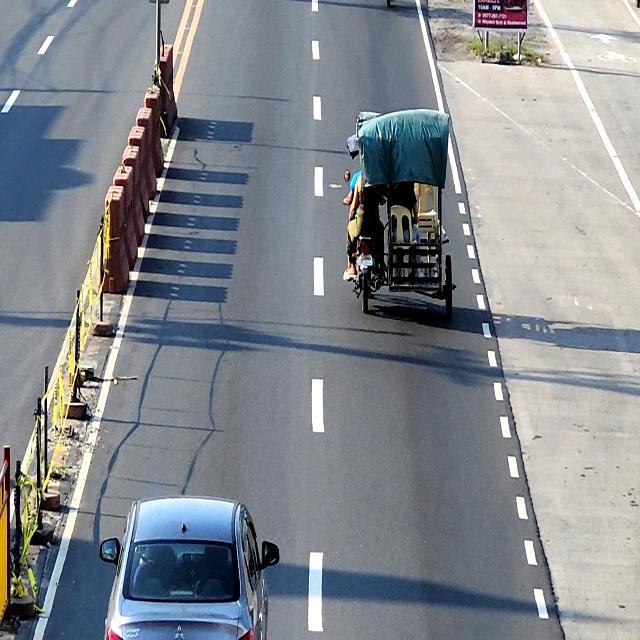Car: (99, 496, 280, 640)
License-Plate: (357, 255, 373, 267)
Tricycle: (346, 134, 456, 320)
